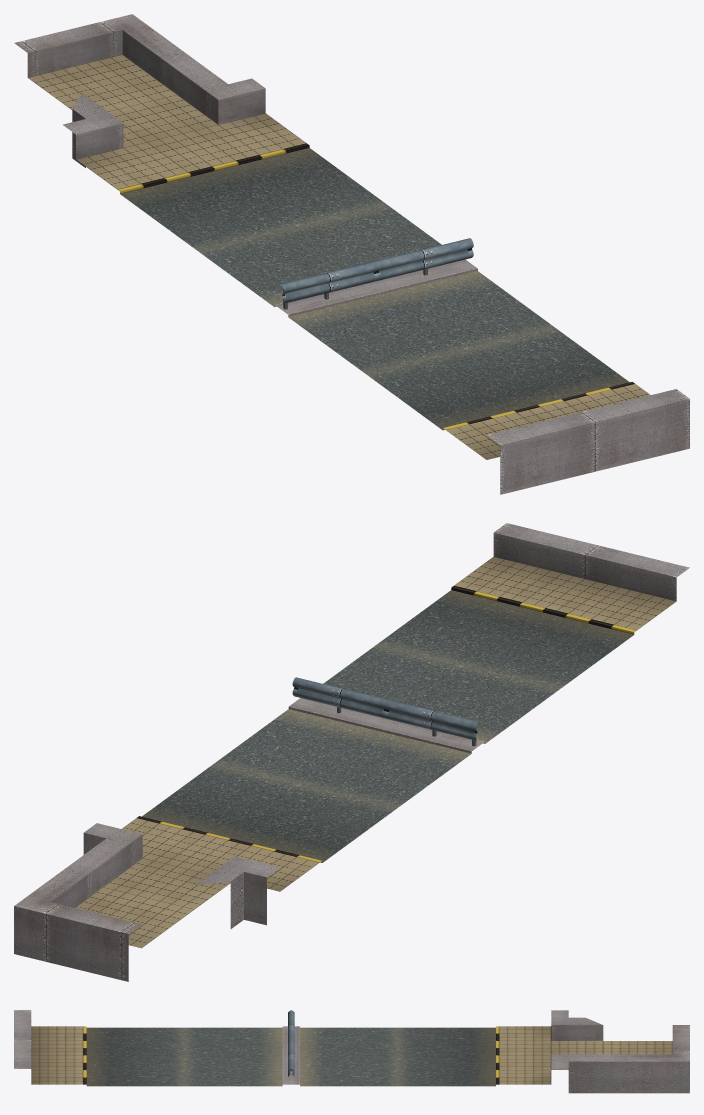
Rendered from M2_Zone4_FlyOver5A.glb.
The picture shows the model from 3 angles, top to bottom: view 1: azimuth 30°, elevation 25°; view 2: azimuth 150°, elevation 25°; view 3: azimuth 270°, elevation 25°; orthographic projection. The views are drawn at different scales.
Visible parts, largest first — view 1: M2_ZONE4_FLYOVER5A; view 2: M2_ZONE4_FLYOVER5A; view 3: M2_ZONE4_FLYOVER5A.
Part boxes in pixels (x1,y1,x2,y2): M2_ZONE4_FLYOVER5A: (14, 14, 689, 494); M2_ZONE4_FLYOVER5A: (14, 523, 689, 981); M2_ZONE4_FLYOVER5A: (14, 1010, 689, 1093).
Size of the model in its own units: 8 by 2 by 39.
Materials: 6 (6 with a texture image).
